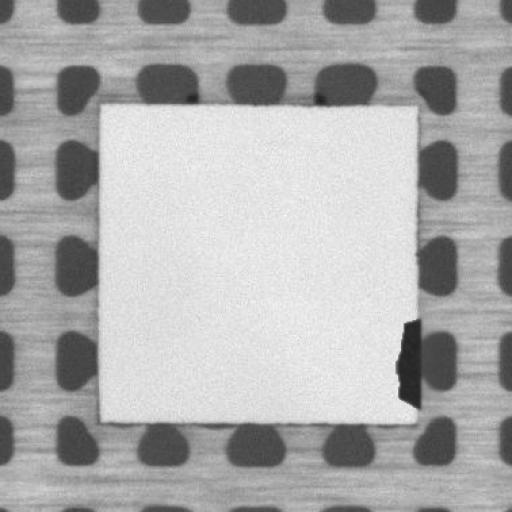DIE_BROKEN: (390, 315, 423, 408)
